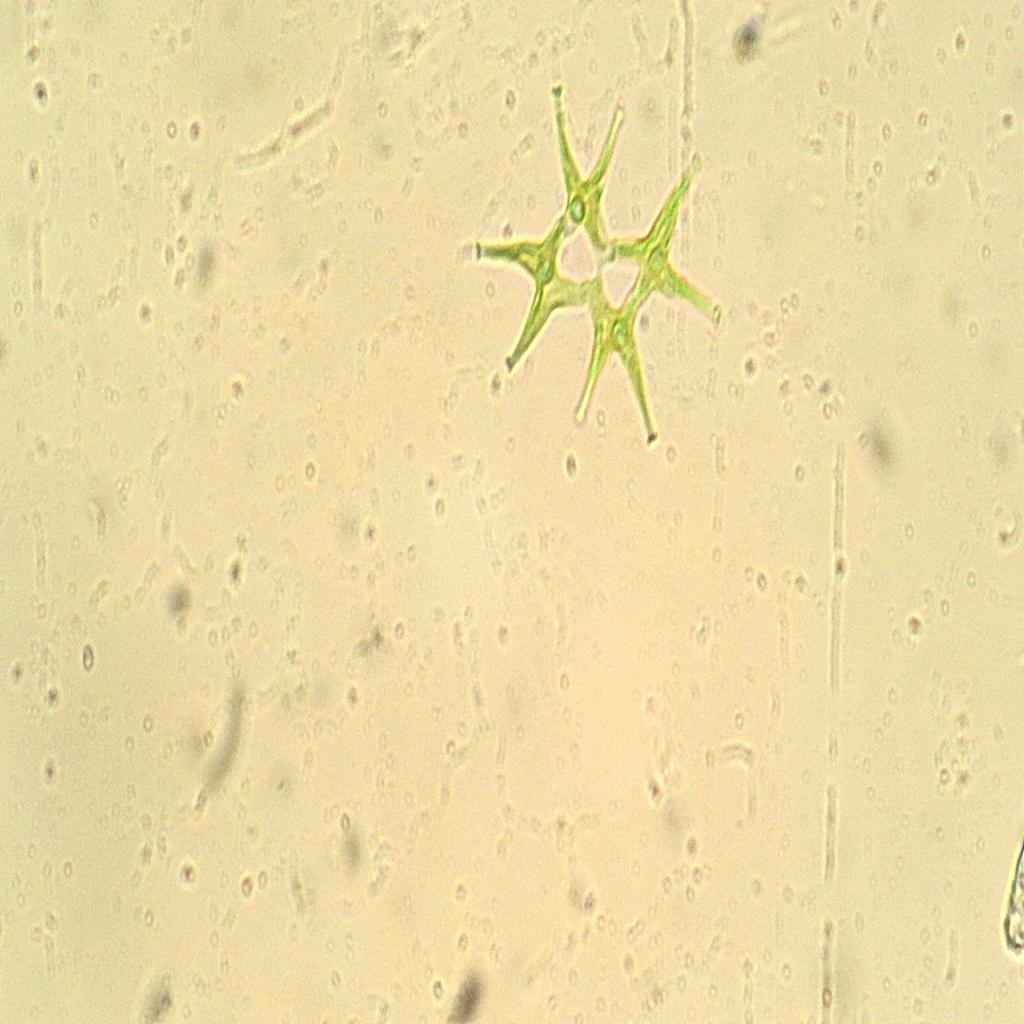Pediastrum_75FO: (462, 77, 732, 454)
